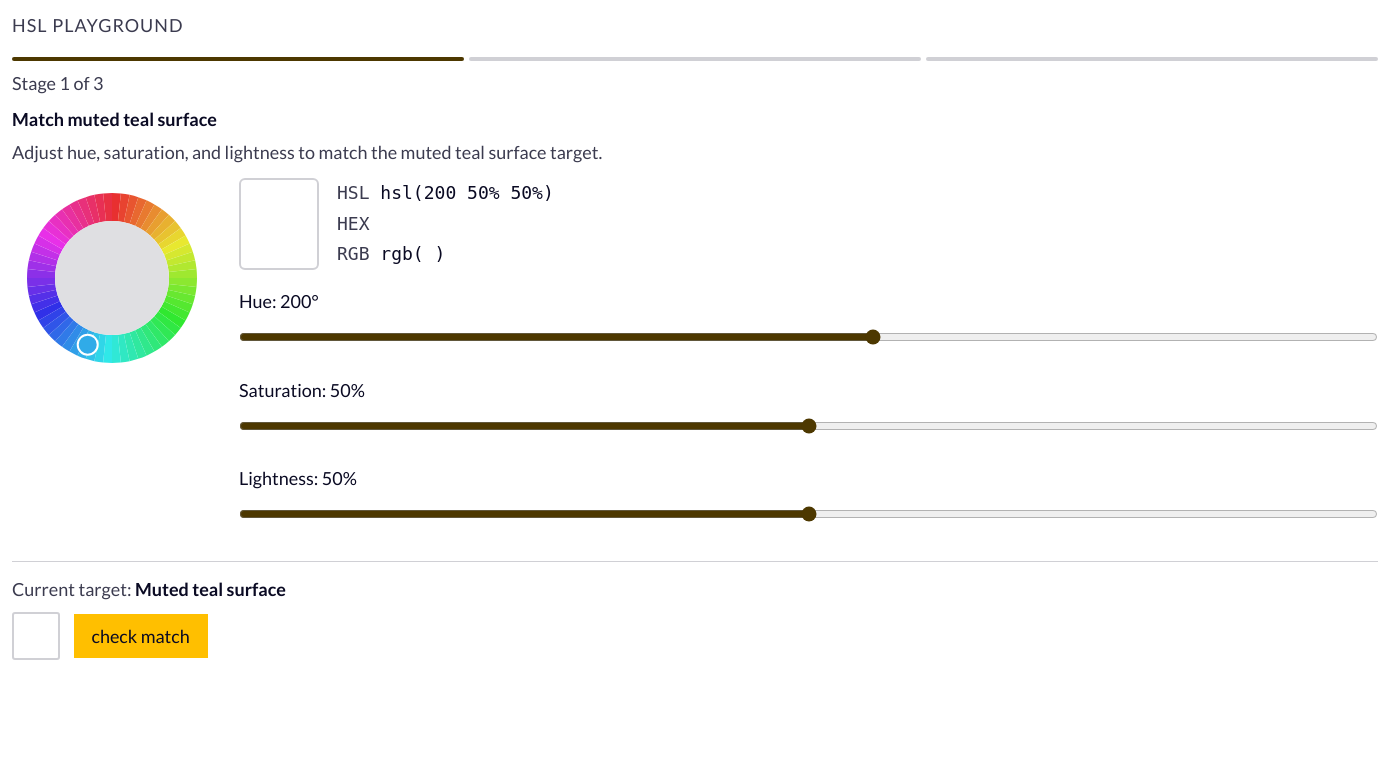
Test: HslPlaygroundTool hue controls › keeps the hue wheel and slider synchronized across the range boundary
Set the slider labelled "Hue: 200°" to "359": (1370, 337) [239, 315, 1378, 359]
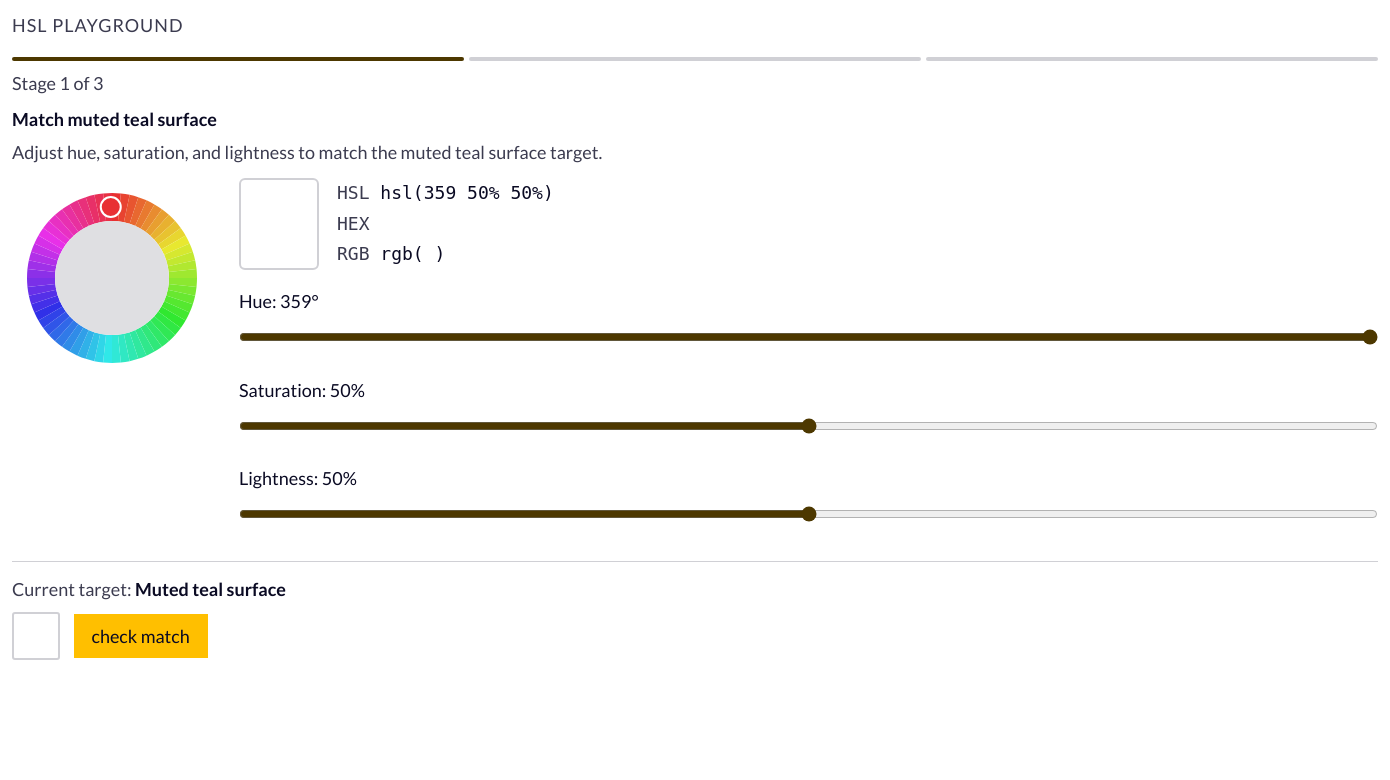
Now the slider named "Hue wheel" has attribute aria-valuenow="359"
Press ArrowRight in the slider named "Hue wheel", box [12, 178, 212, 378]
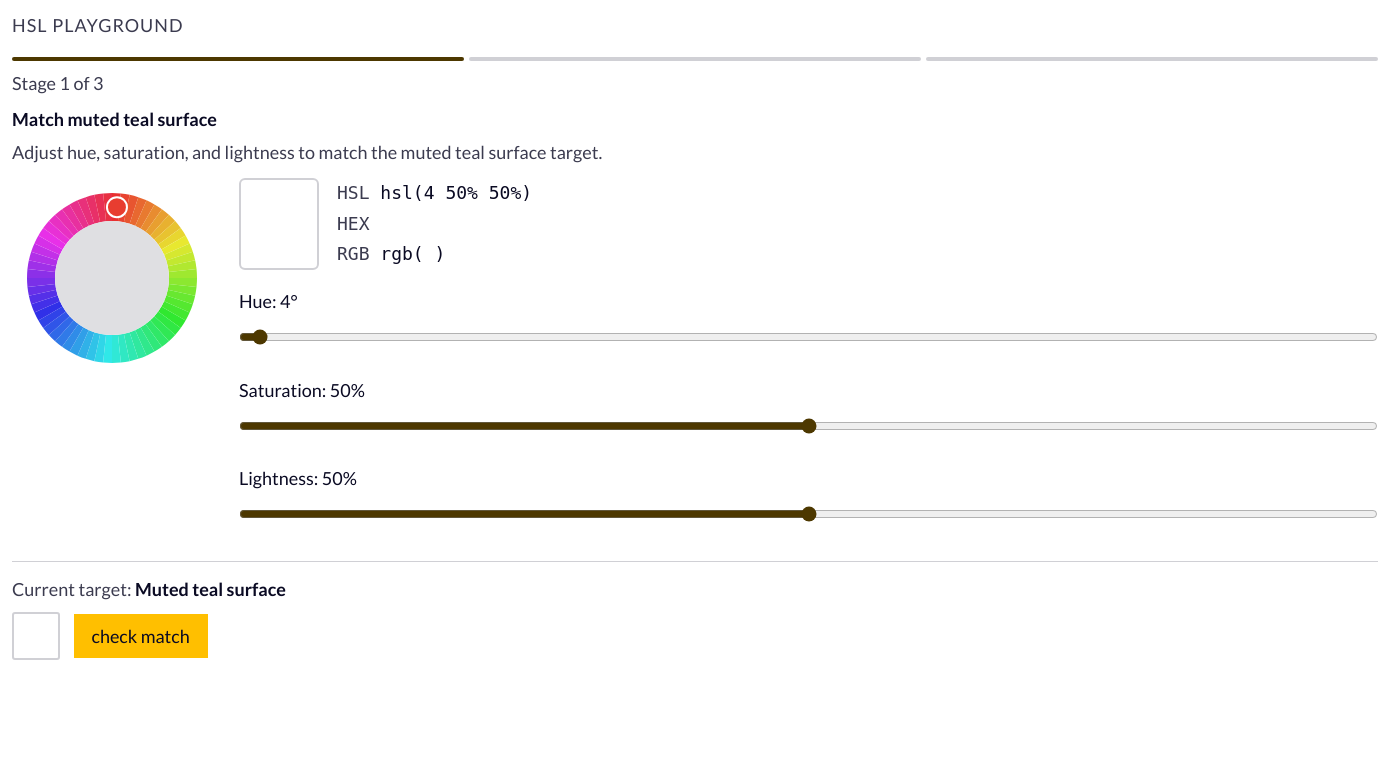
Now the slider labelled "Hue: 4°" holds "4", box [239, 315, 1378, 359]
